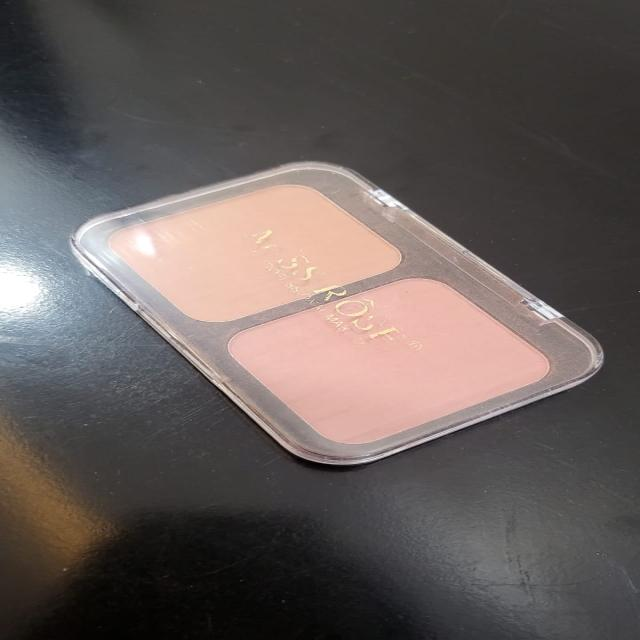powder: (74, 159, 545, 449)
